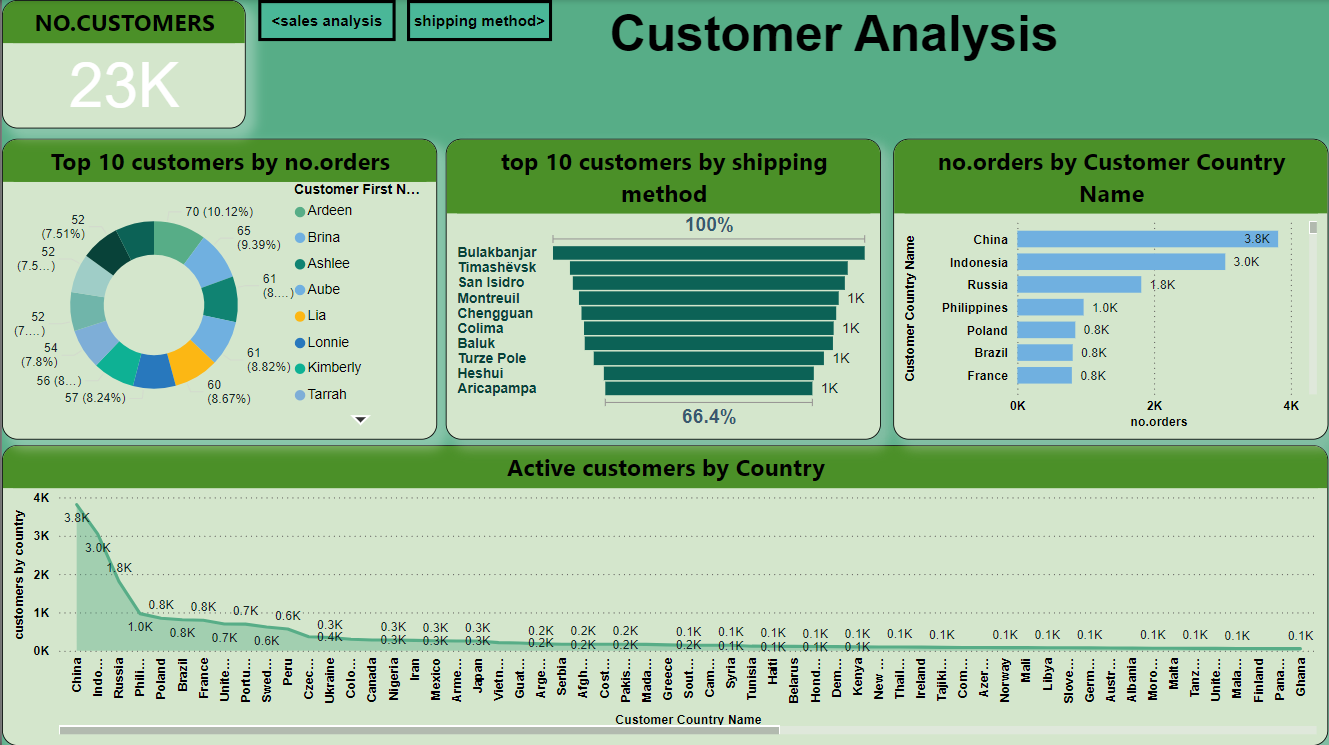

What the dashboard file says about the page in this screenshot:
{"tool":"powerbi","page":{"name":"Customers analysis","canvas":[1280,720],"ordinal":1},"visuals":[{"type":"areaChart","title":"Active customers by Country","fields":{"Category":["Gravity Books Cube.Customer Country Name"],"Y":["#measures.customers by country"]},"box":[0,430.1,1280.3,290],"z":0},{"type":"donutChart","title":"Top 10 customers by no.orders","fields":{"Category":["Gravity Books Cube.Customer First Name"],"Y":["#measures.no.orders"]},"box":[0,133.4,420,290],"z":1000},{"type":"funnel","title":"top 10 customers by shipping method","fields":{"Category":["Gravity Books Cube.Customer City"],"Y":["#measures.total shipping cost"]},"box":[428.8,133.9,420.1,290],"z":2000},{"type":"clusteredBarChart","fields":{"Category":["Gravity Books Cube.Customer Country Name"],"Y":["#measures.no.orders"]},"box":[860.1,133.4,420.1,290],"z":3000},{"type":"textbox","box":[553.6,0,498.8,73.8],"z":4000},{"type":"card","title":"NO.CUSTOMERS","fields":{"Values":["#measures.customers by country"]},"box":[0,0,235.5,123.9],"z":5000},{"type":"actionButton","box":[390.4,0,140,39.7],"z":6000},{"type":"actionButton","box":[247.9,0,132.6,39.7],"z":7000}]}

Visuals, with their boxes in screenshot pixels (x1, y1, x2, y2), scaled from the page's 1280x720 canvas onto the 1329x745 screenshot:
"Active customers by Country" areaChart: x1=0 y1=445 x2=1328 y2=744
"Top 10 customers by no.orders" donutChart: x1=0 y1=138 x2=436 y2=438
"top 10 customers by shipping method" funnel: x1=445 y1=139 x2=881 y2=439
clusteredBarChart - Gravity Books Cube.Customer Country Name x #measures.no.orders: x1=893 y1=138 x2=1328 y2=438
textbox: x1=575 y1=0 x2=1093 y2=76
"NO.CUSTOMERS" card: x1=0 y1=0 x2=245 y2=128
actionButton: x1=405 y1=0 x2=551 y2=41
actionButton: x1=257 y1=0 x2=395 y2=41
